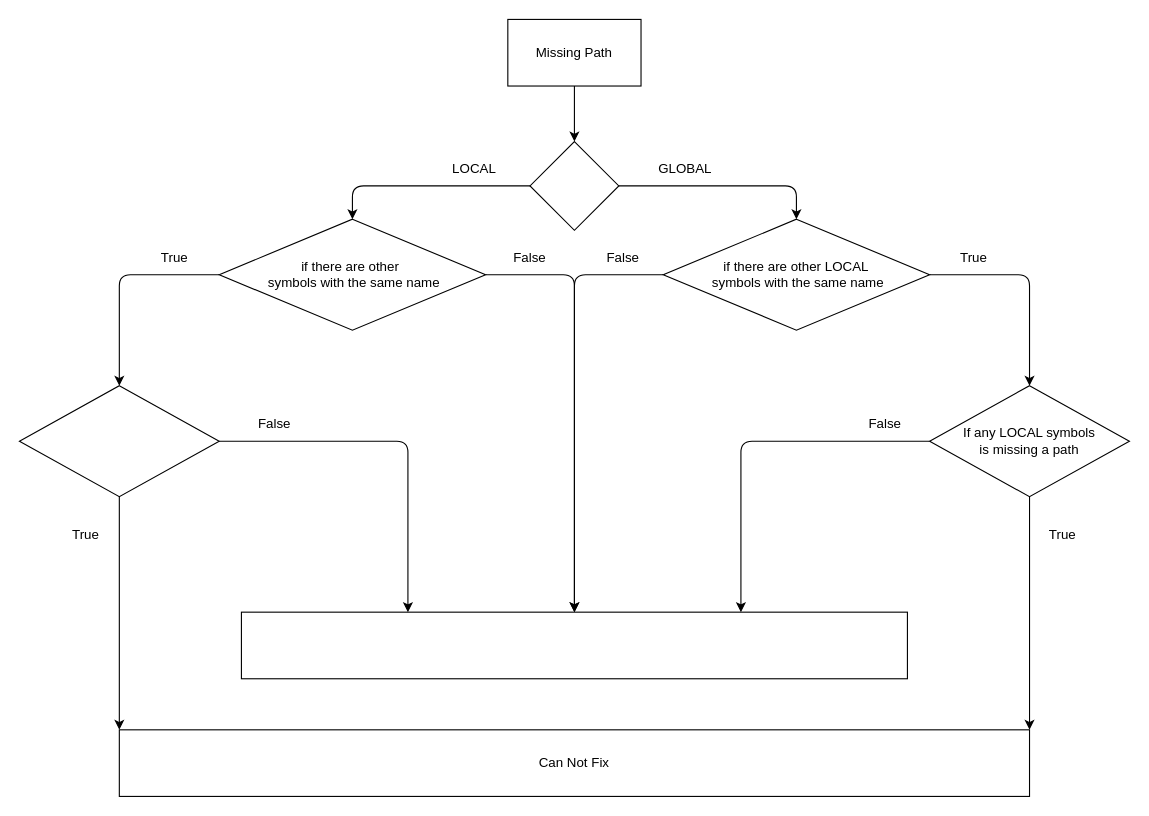
Image size: 1149x816. Some labels were removed from this diagram. Here are the shapes that lost their labels. From the top down, the centre of each, then its label:
At (574,185): "Sym Bind".
At (118,441): "If any symbols is missing a path".
At (573,645): "Can Fix".
